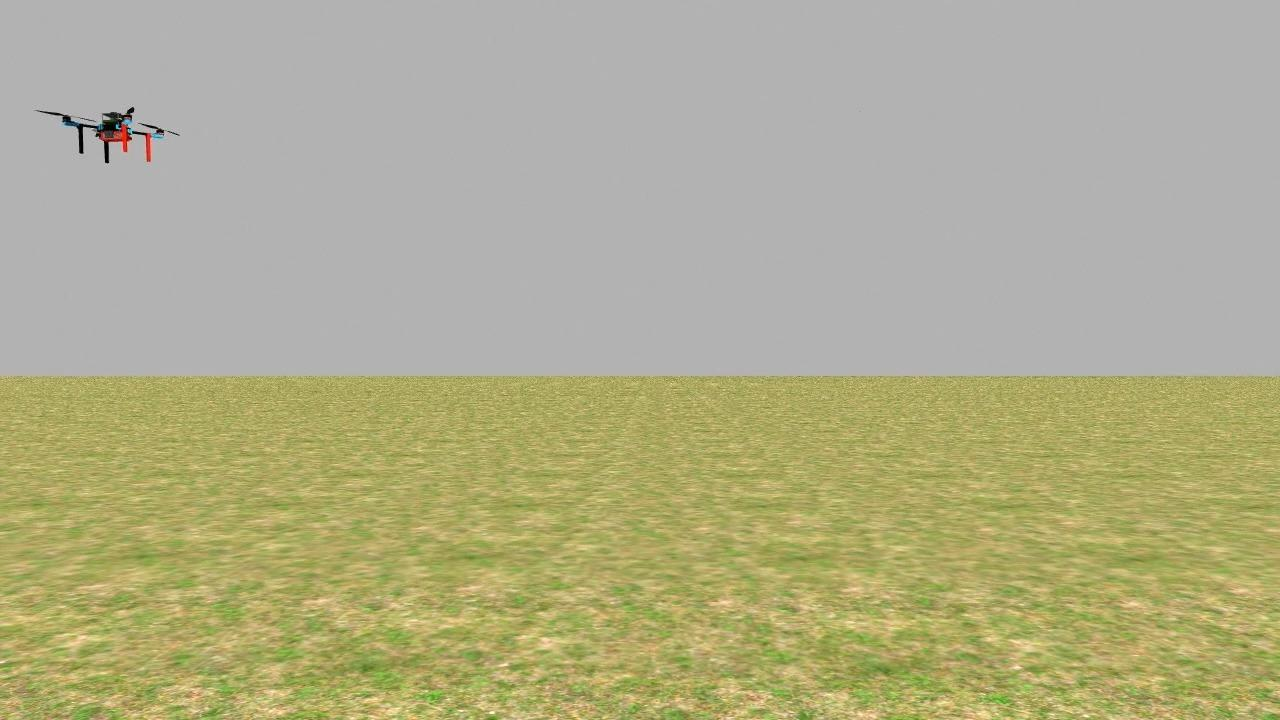UAV: (39, 88, 185, 179)
